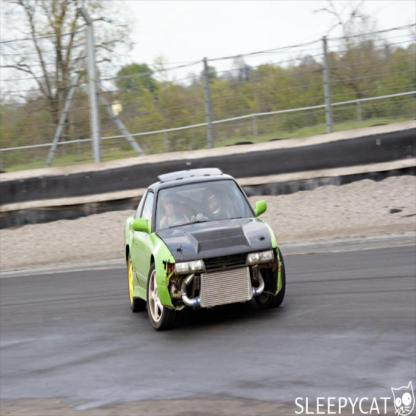Car: (124, 169, 289, 333)
